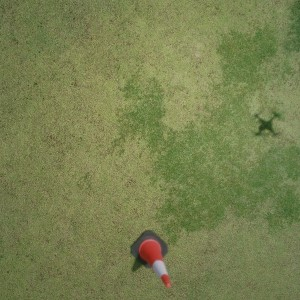traffic cone: (130, 230, 171, 288)
